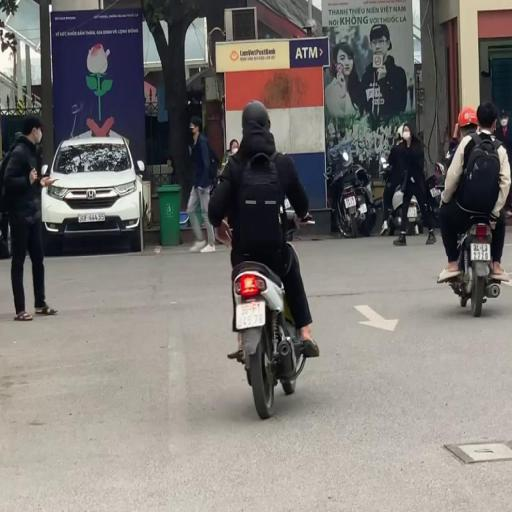bike: (206, 99, 320, 418), (437, 100, 512, 316)
numberplate: (236, 300, 266, 329), (469, 240, 491, 262), (345, 193, 356, 209), (406, 205, 417, 219)
with helmet: (241, 100, 271, 133), (456, 106, 478, 128)
